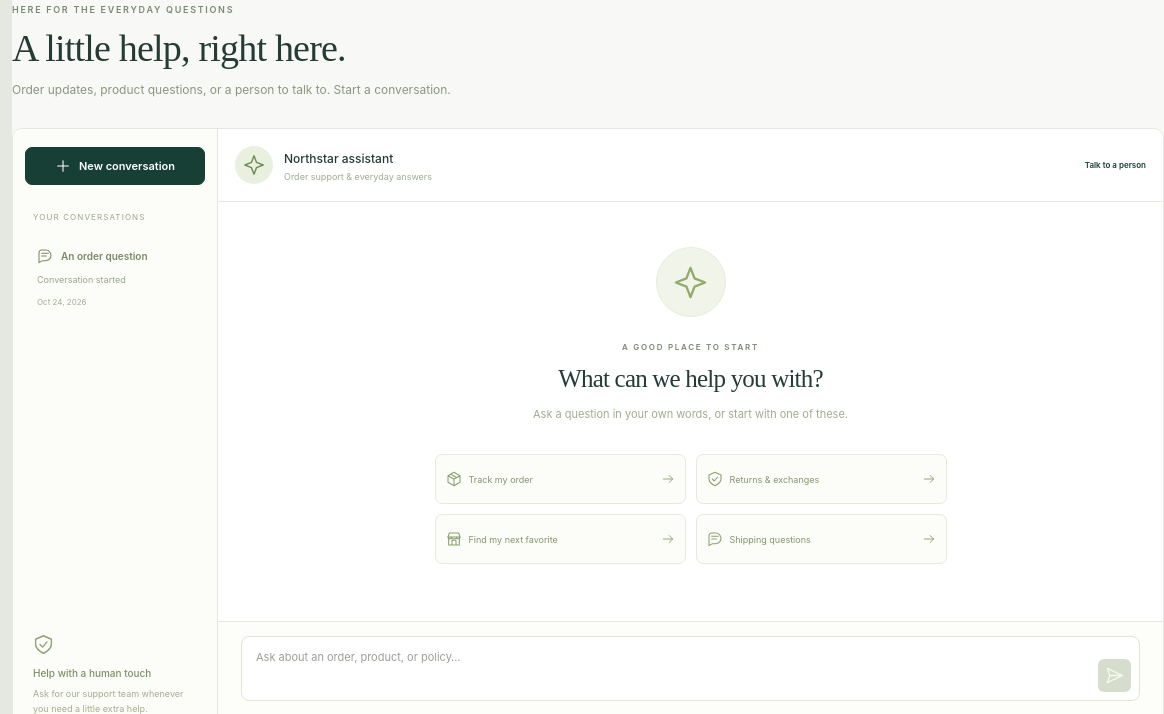
Test case: customer conversation polling › prevents overlapping polls and cancels an in-flight poll when the customer workspace unmounts
Click the button "An order question Conversation started Oct 24, 2026" at (115, 277), box x1=25 y1=234 x2=205 y2=321
Wait 16000 ms
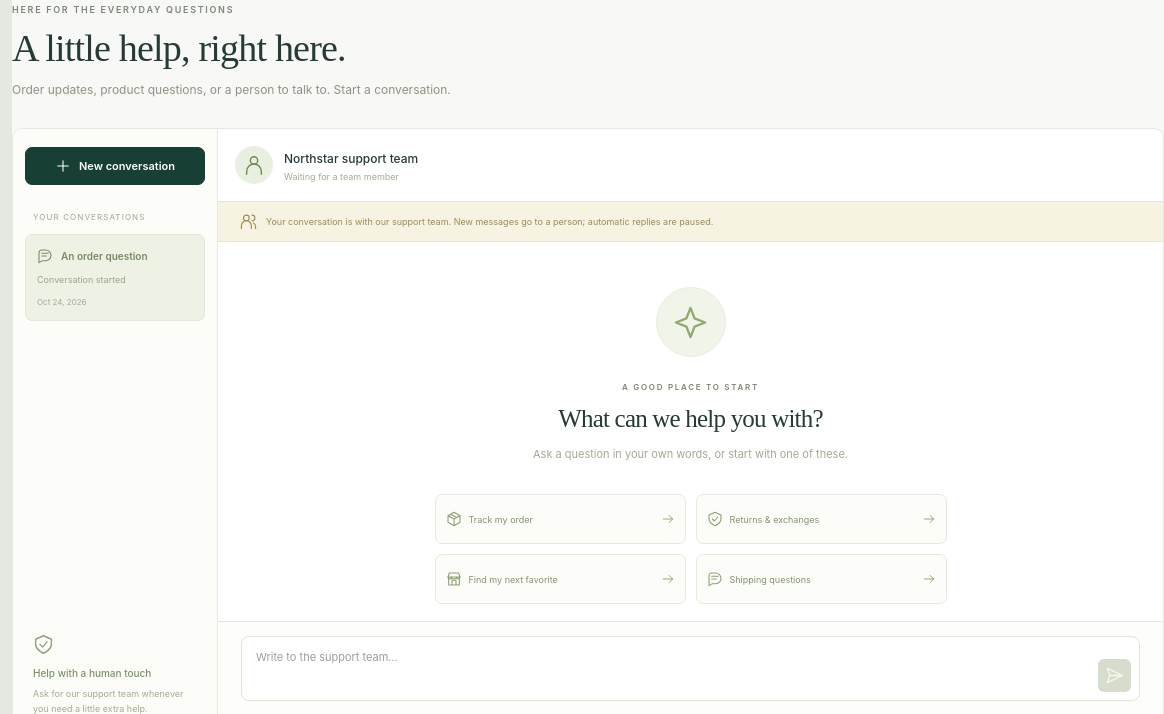
Expected: the text "automatic replies are paused" is shown, x1=425 y1=216 x2=713 y2=227
